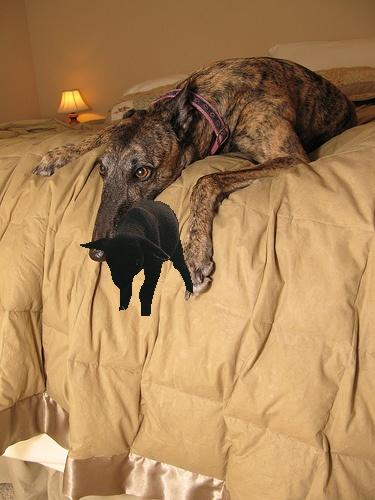tampered: (81, 201, 193, 316)
